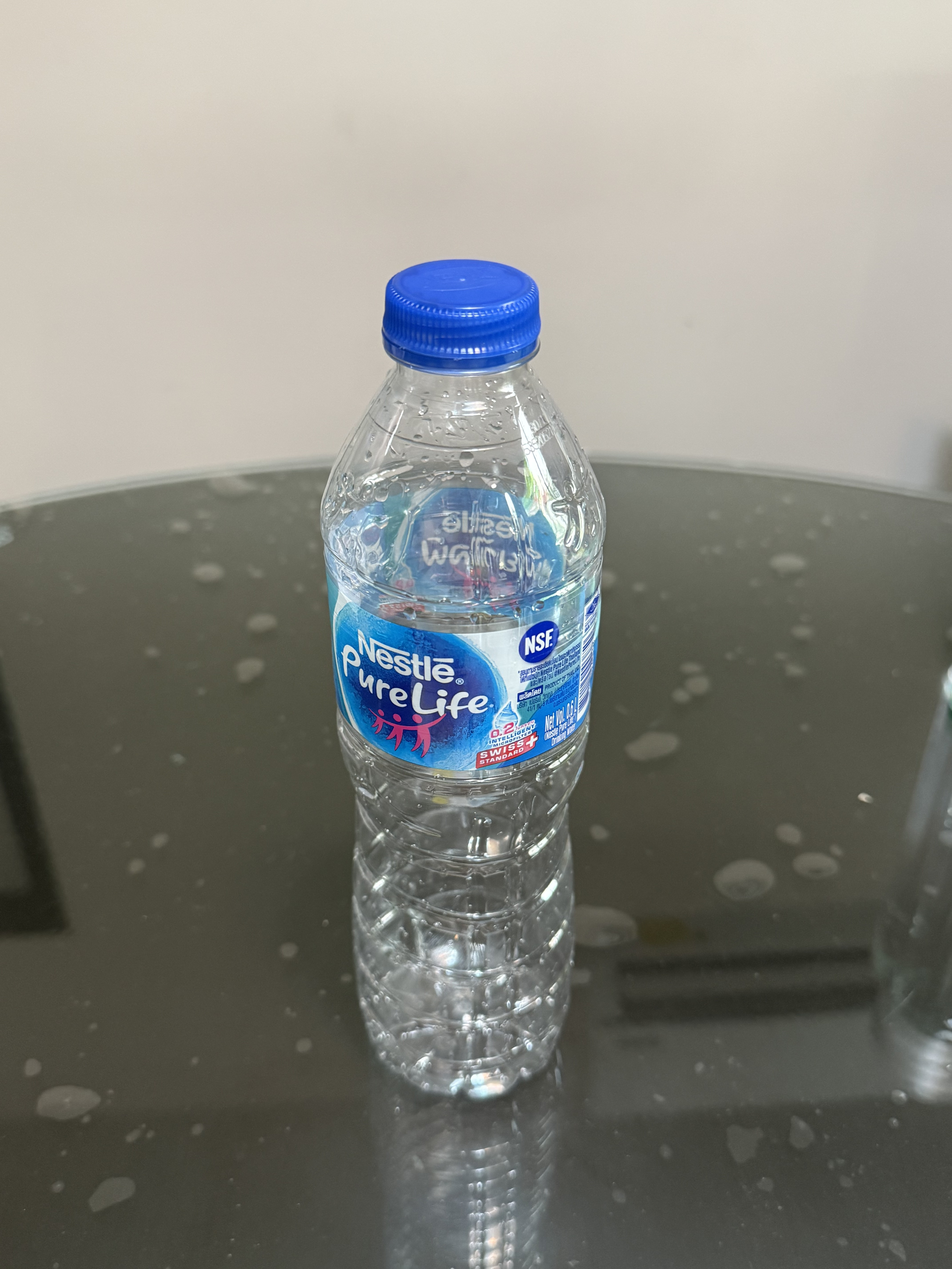closed_cap: (379, 255, 543, 372)
